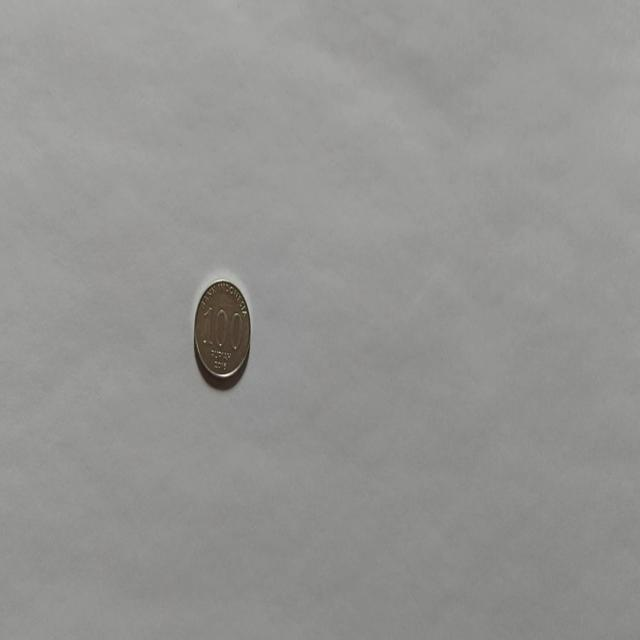seratus rupiah: (192, 278, 252, 388)
